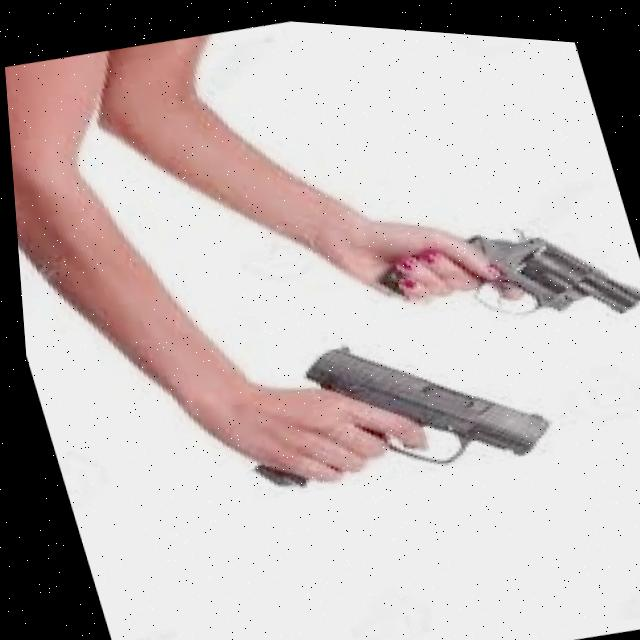pistol: (286, 291, 566, 495), (449, 187, 640, 339)
